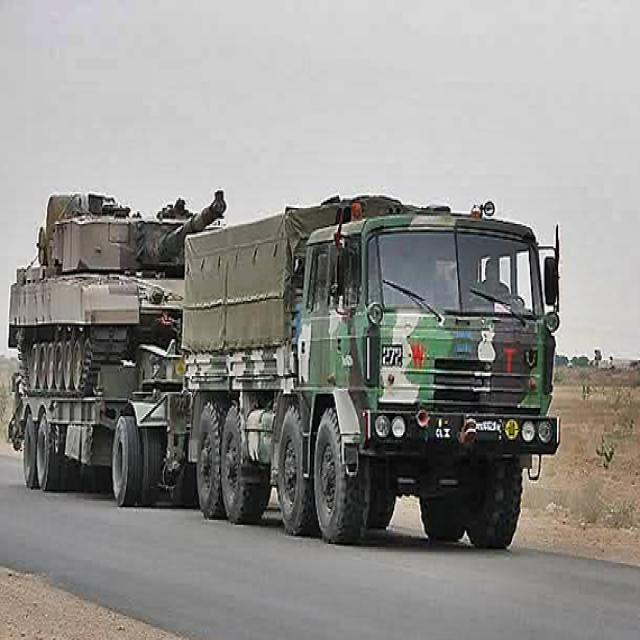truck: (182, 194, 560, 549)
